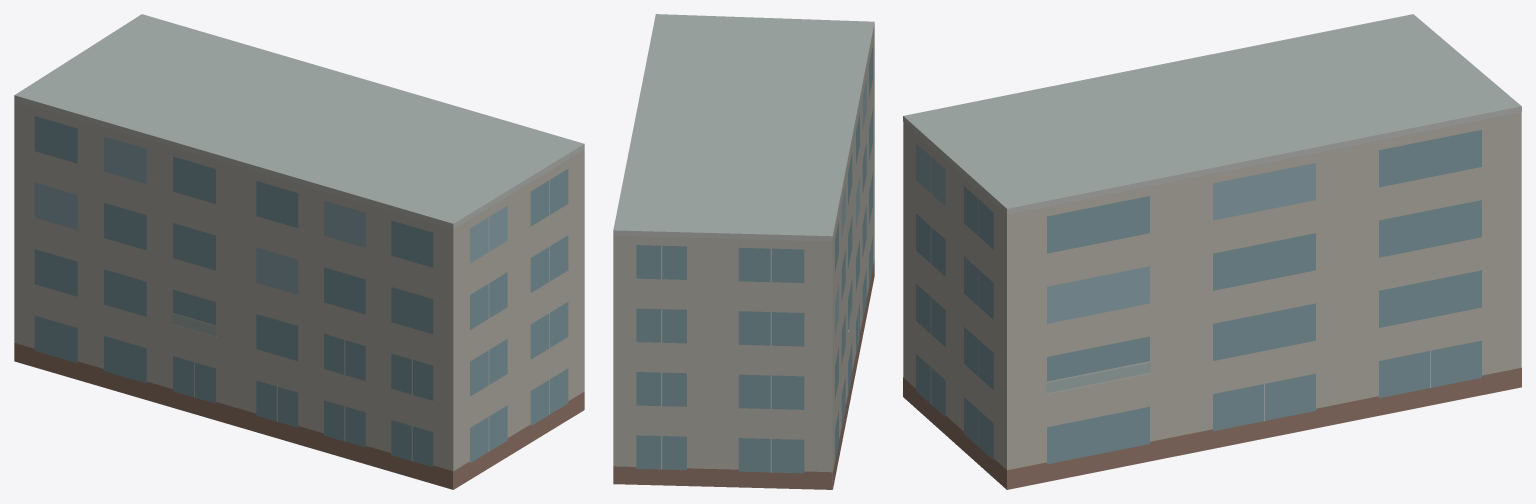
File: survey-upis-32998018.glb
3 renders of one model, left to right at view 1: azimuth 30°, elevation 25°; view 2: azimuth 150°, elevation 25°; view 3: azimuth 270°, elevation 25°, orthographic. The views are drawn at different scales.
Visible parts, largest first — view 1: survey-upis-32998018.tmp; view 2: survey-upis-32998018.tmp; view 3: survey-upis-32998018.tmp.
Boxes of the visible parts, x1,y1,x2,y2 form: survey-upis-32998018.tmp: (14,14,584,489); survey-upis-32998018.tmp: (613,14,874,489); survey-upis-32998018.tmp: (903,14,1521,489).
Size of the model in its own units: 17.4 by 11.7 by 23.35.
